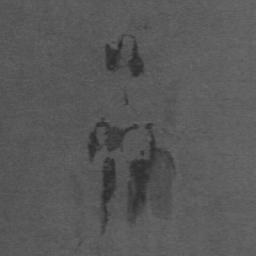Iron scale compression: (127, 124, 176, 224), (88, 118, 139, 163), (105, 33, 144, 78), (103, 159, 116, 233)
